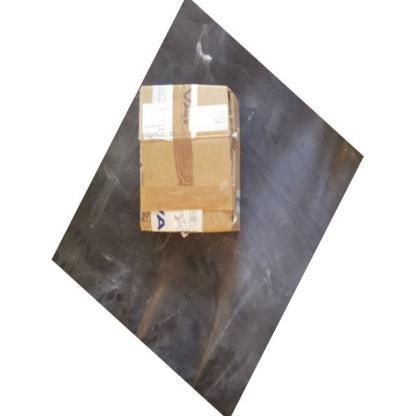package: (142, 88, 239, 230)
